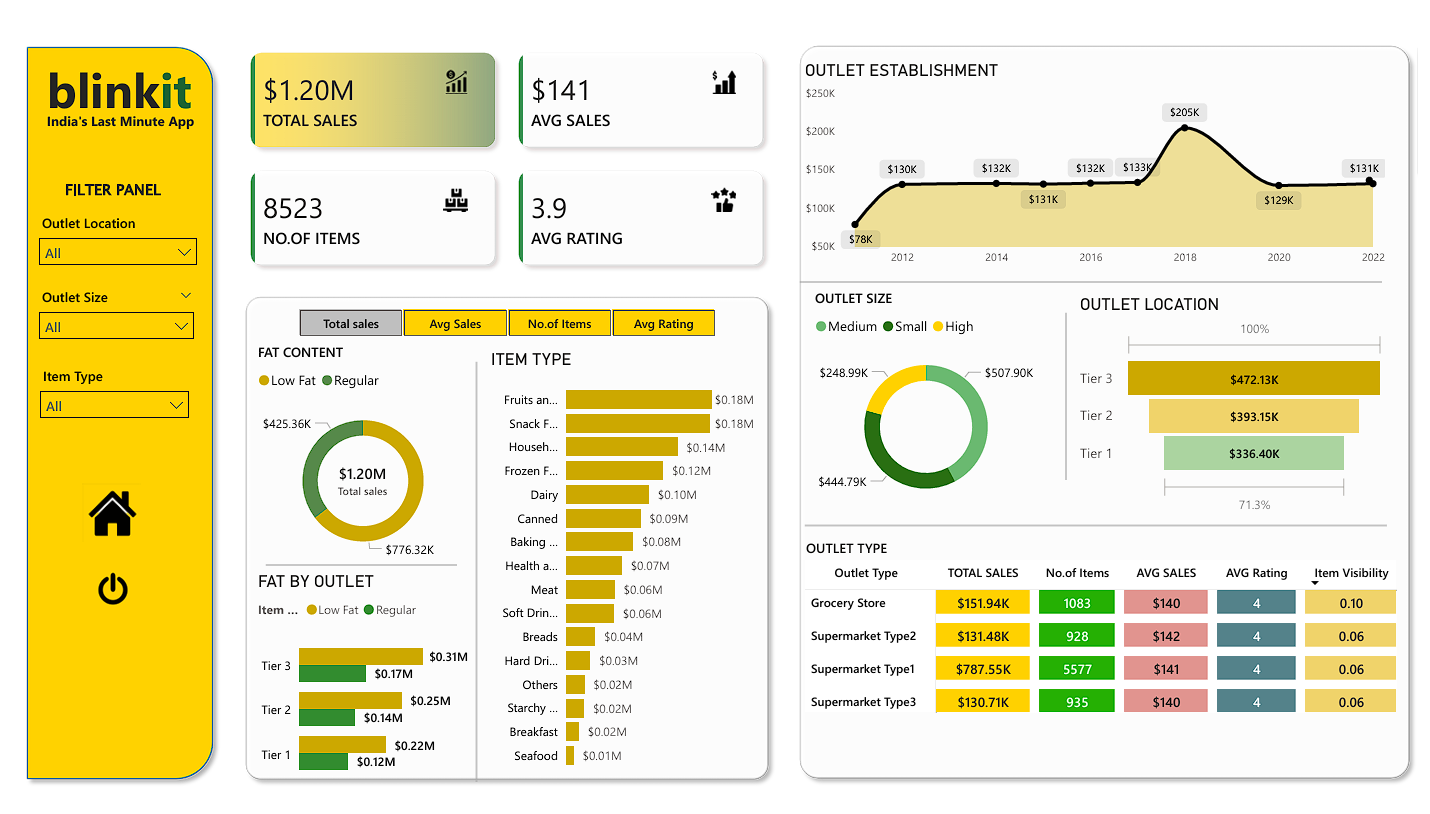

The dashboard page shown, as its layout file describes it:
{"tool":"powerbi","page":{"name":"Page 1","canvas":[1400,800],"ordinal":0},"visuals":[{"type":"shape","box":[0,25,204,750],"z":0},{"type":"textbox","box":[18.3,38.3,166.7,91.7],"z":1000},{"type":"textbox","box":[16.2,93.8,172.5,36.2],"z":2000},{"type":"cardVisual","fields":{"Data":["BlinkIT Grocery Data.Sum of sales","BlinkIT Grocery Data.Avg Of Sales","BlinkIT Grocery Data.No.of Items","BlinkIT Grocery Data.AVG Rating"]},"box":[203.8,11.2,570,270],"z":3000},{"type":"shape","box":[218.8,275,540,500],"z":4000},{"type":"slicer","fields":{"Values":["Metrics.Metrics"]},"box":[256.2,290,465,40],"z":5000},{"type":"donutChart","title":"FAT CONTENT","fields":{"Y":["BlinkIT Grocery Data.TOTAL SALES"],"Category":["BlinkIT Grocery Data.Item Fat Content"]},"box":[235,330,220,230],"z":6000},{"type":"cardVisual","fields":{"Data":["BlinkIT Grocery Data.TOTAL SALES"]},"box":[276.5,432.6,135.3,68.1],"z":7000},{"type":"clusteredBarChart","title":"ITEM TYPE","fields":{"Y":["BlinkIT Grocery Data.TOTAL SALES"],"Category":["BlinkIT Grocery Data.Item Type"]},"box":[468.2,336.4,272.7,430.9],"z":8000},{"type":"clusteredBarChart","title":"FAT BY OUTLET","fields":{"Y":["BlinkIT Grocery Data.TOTAL SALES"],"Category":["BlinkIT Grocery Data.Outlet Location Type"],"Series":["BlinkIT Grocery Data.Item Fat Content"]},"box":[235.4,557.7,220,223.8],"z":9000},{"type":"shape","box":[247.8,545.6,191.1,12.2],"z":10000},{"type":"shape","box":[448.9,348.9,18.9,420],"z":11000},{"type":"shape","box":[773.3,24.4,626.7,750],"z":12000},{"type":"lineChart","title":"OUTLET ESTABLISHMENT","fields":{"Y":["BlinkIT Grocery Data.TOTAL SALES"],"Category":["BlinkIT Grocery Data.Outlet Establishment Year"]},"box":[782.2,46.7,590,215.6],"z":13000},{"type":"shape","box":[782.2,262.2,582.2,13.3],"z":14000},{"type":"donutChart","title":"OUTLET SIZE","fields":{"Y":["BlinkIT Grocery Data.TOTAL SALES"],"Category":["BlinkIT Grocery Data.Outlet Size"]},"box":[792.2,275.6,232.2,230],"z":15000},{"type":"shape","box":[1038.9,300,17.8,166.7],"z":16000},{"type":"funnel","title":"OUTLET LOCATION","fields":{"Category":["BlinkIT Grocery Data.Outlet Location Type"],"Y":["BlinkIT Grocery Data.TOTAL SALES"]},"box":[1056.7,281.1,315.6,224.4],"z":17000},{"type":"shape","box":[786.7,505.6,582.2,13.3],"z":18000},{"type":"pivotTable","title":"OUTLET TYPE","fields":{"Values":["BlinkIT Grocery Data.TOTAL SALES","BlinkIT Grocery Data.No.of Items","BlinkIT Grocery Data.AVG SALES","BlinkIT Grocery Data.AVG Rating","Avg(BlinkIT Grocery Data.Item Visibility)"],"Rows":["BlinkIT Grocery Data.Outlet Type"]},"box":[783.3,525.6,605.6,240],"z":19000},{"type":"slicer","fields":{"Values":["BlinkIT Grocery Data.Outlet Location Type"]},"box":[11.1,195.6,177.8,66.7],"z":20000},{"type":"slicer","fields":{"Values":["BlinkIT Grocery Data.Outlet Size"]},"box":[11.1,270,174.4,60],"z":21000},{"type":"slicer","fields":{"Values":["BlinkIT Grocery Data.Item Type"]},"box":[12.2,348.9,168.9,60],"z":22000},{"type":"textbox","box":[18.9,161.1,152.2,34.4],"z":23000},{"type":"image","box":[58,545.8,73.1,66.6],"z":23001},{"type":"image","box":[61.2,470.6,65.5,59.1],"z":23002}]}

Visuals, with their boxes in screenshot pixels (x1, y1, x2, y2), scaled from the page's 1400x800 canvas onto the 1430x814 screenshot:
shape: (left=0, top=25, right=208, bottom=789)
textbox: (left=19, top=39, right=189, bottom=132)
textbox: (left=17, top=95, right=193, bottom=132)
cardVisual - BlinkIT Grocery Data.Sum of sales x BlinkIT Grocery Data.Avg Of Sales: (left=208, top=11, right=790, bottom=286)
shape: (left=223, top=280, right=775, bottom=789)
slicer - Metrics.Metrics: (left=262, top=295, right=737, bottom=336)
"FAT CONTENT" donutChart: (left=240, top=336, right=465, bottom=570)
cardVisual - BlinkIT Grocery Data.TOTAL SALES: (left=282, top=440, right=421, bottom=509)
"ITEM TYPE" clusteredBarChart: (left=478, top=342, right=757, bottom=781)
"FAT BY OUTLET" clusteredBarChart: (left=240, top=567, right=465, bottom=795)
shape: (left=253, top=555, right=448, bottom=568)
shape: (left=459, top=355, right=478, bottom=782)
shape: (left=790, top=25, right=1429, bottom=788)
"OUTLET ESTABLISHMENT" lineChart: (left=799, top=48, right=1402, bottom=267)
shape: (left=799, top=267, right=1394, bottom=280)
"OUTLET SIZE" donutChart: (left=809, top=280, right=1046, bottom=514)
shape: (left=1061, top=305, right=1079, bottom=475)
"OUTLET LOCATION" funnel: (left=1079, top=286, right=1402, bottom=514)
shape: (left=804, top=514, right=1398, bottom=528)
"OUTLET TYPE" pivotTable: (left=800, top=535, right=1419, bottom=779)
slicer - BlinkIT Grocery Data.Outlet Location Type: (left=11, top=199, right=193, bottom=267)
slicer - BlinkIT Grocery Data.Outlet Size: (left=11, top=275, right=189, bottom=336)
slicer - BlinkIT Grocery Data.Item Type: (left=12, top=355, right=185, bottom=416)
textbox: (left=19, top=164, right=175, bottom=199)
image: (left=59, top=555, right=134, bottom=623)
image: (left=63, top=479, right=129, bottom=539)
